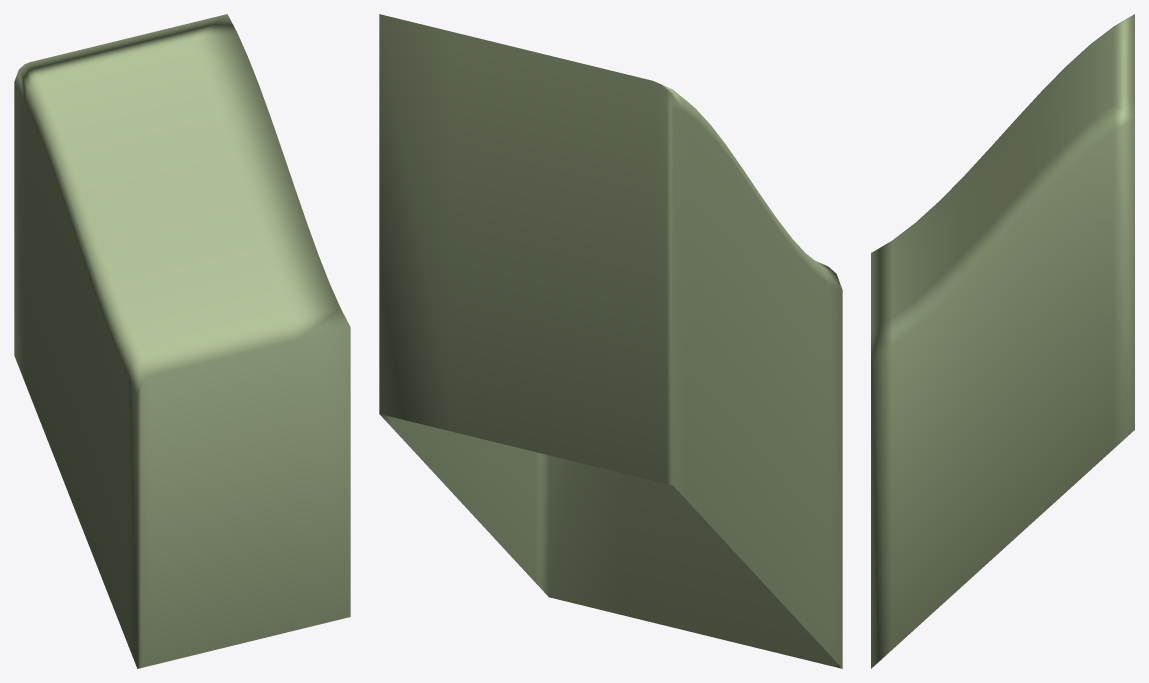
The model's file is ground-ramp-l-10.glb.
3 renders of one model, left to right at view 1: azimuth 30°, elevation 25°; view 2: azimuth 150°, elevation 25°; view 3: azimuth 270°, elevation 25°, orthographic. The views are drawn at different scales.
Parts seen in each view (by area): view 1: ground-ramp-l-10; view 2: ground-ramp-l-10; view 3: ground-ramp-l-10.
Part boxes in pixels (x1,y1,x2,y2): ground-ramp-l-10: (14,14,350,668); ground-ramp-l-10: (379,14,842,668); ground-ramp-l-10: (871,14,1134,668).
Bounding box in the file's own units: 1 × 2.3 × 1.
